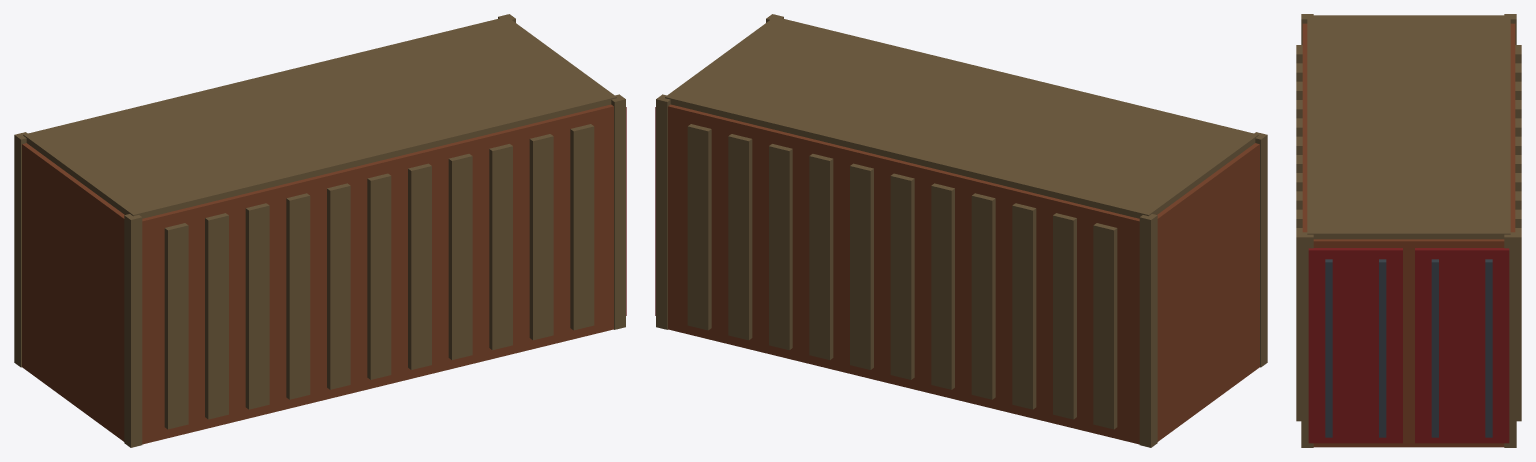
Rendered from env_container_rust.fbx.
The picture shows the model from 3 angles, left to right: view 1: azimuth 30°, elevation 25°; view 2: azimuth 150°, elevation 25°; view 3: azimuth 270°, elevation 25°; orthographic projection. The views are drawn at different scales.
Visible parts, largest first — view 1: env_container_rust; view 2: env_container_rust; view 3: env_container_rust.
Boxes of the visible parts, left/top/right/bottom form: env_container_rust: left=14, top=14, right=626, bottom=447; env_container_rust: left=655, top=14, right=1267, bottom=447; env_container_rust: left=1296, top=14, right=1521, bottom=447.
Size of the model in its own units: 2210 by 955 by 920.
